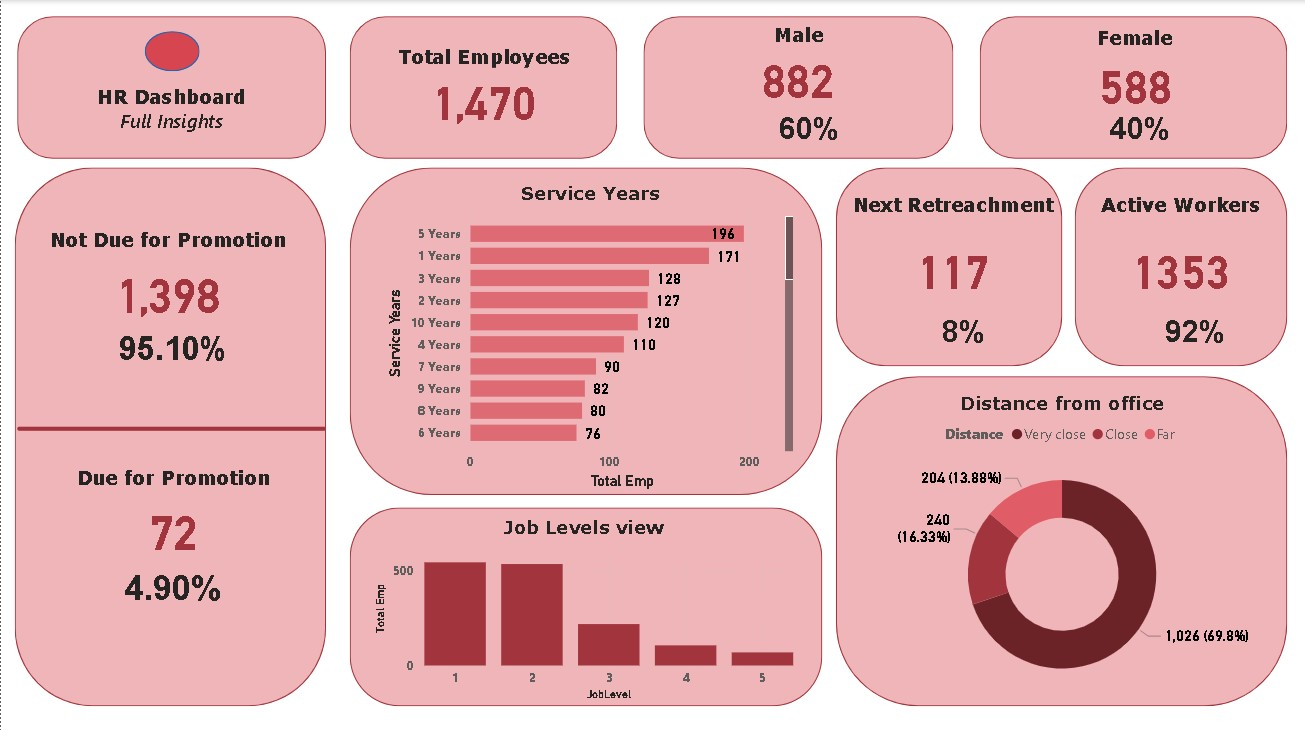

The dashboard page shown, as its layout file describes it:
{"tool":"powerbi","page":{"name":"Page 1","canvas":[1280,720],"ordinal":0},"visuals":[{"type":"shape","box":[16,16,303.1,139.9],"z":0},{"type":"shape","box":[342.3,16,262.6,139.9],"z":1000},{"type":"shape","box":[630.7,16,304.3,139.9],"z":2000},{"type":"shape","box":[960.7,16,301.8,139.9],"z":3000},{"type":"shape","box":[13.5,164.4,305.5,528.8],"z":4000},{"type":"shape","box":[342.3,498.2,463.8,195.1],"z":5000},{"type":"shape","box":[342.3,164.4,463.8,321.5],"z":6000},{"type":"shape","box":[819.6,164.4,222.1,195.1],"z":7000},{"type":"shape","box":[1054,164.4,208.6,195.1],"z":8000},{"type":"shape","box":[819.6,369.3,442.9,323.9],"z":9000},{"type":"shape","box":[141.1,30.7,54,39.3],"z":10000},{"type":"textbox","box":[58.9,78.5,217.2,58.9],"z":11000},{"type":"card","title":"Total Employees","fields":{"Values":["All measures.Total Emp"]},"box":[362,44.2,224.5,83.4],"z":12000},{"type":"card","title":"Male","fields":{"Values":["All measures.Male"]},"box":[690.8,23.3,184.1,81],"z":13000},{"type":"card","title":"Female","fields":{"Values":["All measures.Female"]},"box":[1031.9,25.8,162,88.3],"z":14000},{"type":"shape","box":[16,412.3,303.1,17.2],"z":15000},{"type":"card","title":"Due for Promotion","fields":{"Values":["All measures.Not due promo"]},"box":[33.1,457.7,272.4,98.2],"z":16000},{"type":"card","title":"Not Due for Promotion","fields":{"Values":["All measures.Not Due"]},"box":[13.5,224.5,300.6,100.6],"z":17000},{"type":"card","fields":{"Values":["All measures.% Not due"]},"box":[19.6,538.7,300.6,74.8],"z":18000},{"type":"barChart","title":"Service Years","fields":{"Category":["HR Analytics Data.Service Years"],"Y":["All measures.Total Emp"]},"box":[374.2,179.1,408.6,306.8],"z":19000},{"type":"columnChart","title":"Job Levels view","fields":{"Category":["HR Analytics Data.JobLevel"],"Y":["All measures.Total Emp"]},"box":[362,506.8,420.9,186.5],"z":20000},{"type":"donutChart","title":"Distance from office","fields":{"Category":["HR Analytics Data.Distance"],"Y":["All measures.Total Emp"]},"box":[839.3,385.3,404.9,306.8],"z":21000},{"type":"card","fields":{"Values":["All measures.Male%"]},"box":[747.2,96.9,92,56.4],"z":22000},{"type":"card","fields":{"Values":["All measures.Female%"]},"box":[1072.4,96.9,92,56.4],"z":23000},{"type":"card","fields":{"Values":["All measures.%Not Due"]},"box":[79.8,312.9,176.7,56.4],"z":24000},{"type":"card","title":"Next Retreachment","fields":{"Values":["All measures.Will be ret"]},"box":[814.7,190.2,239.3,122.7],"z":24001},{"type":"card","title":"Active Workers","fields":{"Values":["All measures.Active works"]},"box":[1054,190.2,208.6,122.7],"z":24002},{"type":"card","fields":{"Values":["All measures.%On service"]},"box":[1117.8,292,108,65],"z":24003},{"type":"card","fields":{"Values":["All measures.%Will be ret"]},"box":[890.8,292,108,65],"z":24004}]}

Visuals, with their boxes in screenshot pixels (x1, y1, x2, y2), scaled from the page's 1280x720 canvas onto the 1305x730 screenshot:
shape: 16, 16, 325, 158
shape: 349, 16, 617, 158
shape: 643, 16, 953, 158
shape: 979, 16, 1287, 158
shape: 14, 167, 325, 703
shape: 349, 505, 822, 703
shape: 349, 167, 822, 493
shape: 836, 167, 1062, 364
shape: 1075, 167, 1287, 364
shape: 836, 374, 1287, 703
shape: 144, 31, 199, 71
textbox: 60, 80, 281, 139
"Total Employees" card: 369, 45, 598, 129
"Male" card: 704, 24, 892, 106
"Female" card: 1052, 26, 1217, 116
shape: 16, 418, 325, 435
"Due for Promotion" card: 34, 464, 311, 564
"Not Due for Promotion" card: 14, 228, 320, 330
card - All measures.% Not due: 20, 546, 326, 622
"Service Years" barChart: 382, 182, 798, 493
"Job Levels view" columnChart: 369, 514, 798, 703
"Distance from office" donutChart: 856, 391, 1269, 702
card - All measures.Male%: 762, 98, 856, 155
card - All measures.Female%: 1093, 98, 1187, 155
card - All measures.%Not Due: 81, 317, 262, 374
"Next Retreachment" card: 831, 193, 1075, 317
"Active Workers" card: 1075, 193, 1287, 317
card - All measures.%On service: 1140, 296, 1250, 362
card - All measures.%Will be ret: 908, 296, 1018, 362
